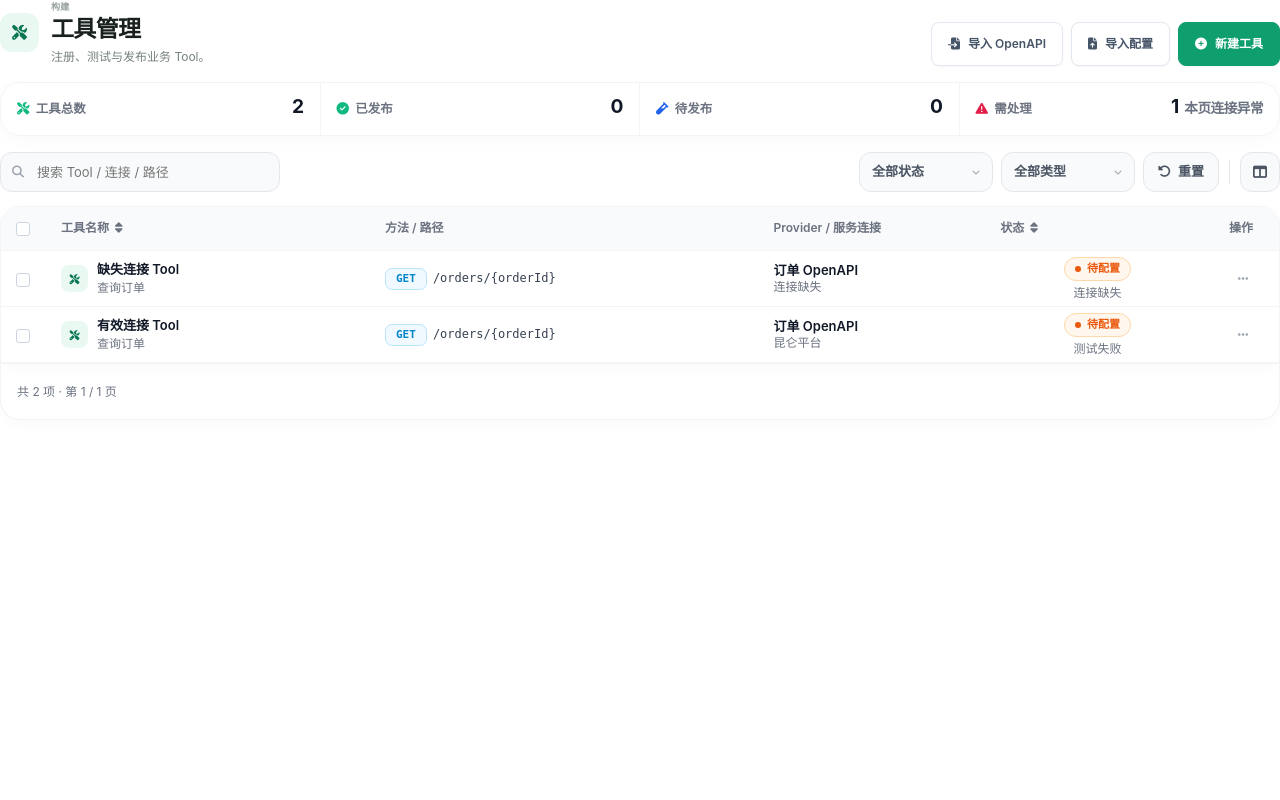
Test: tools view detail behavior › keeps destructive Tool actions behind the existing confirmation dialog
Click the button named "更多工具操作" in the row of "缺失连接 Tool".
click(1243, 279)  # box [1225,261,1261,297]
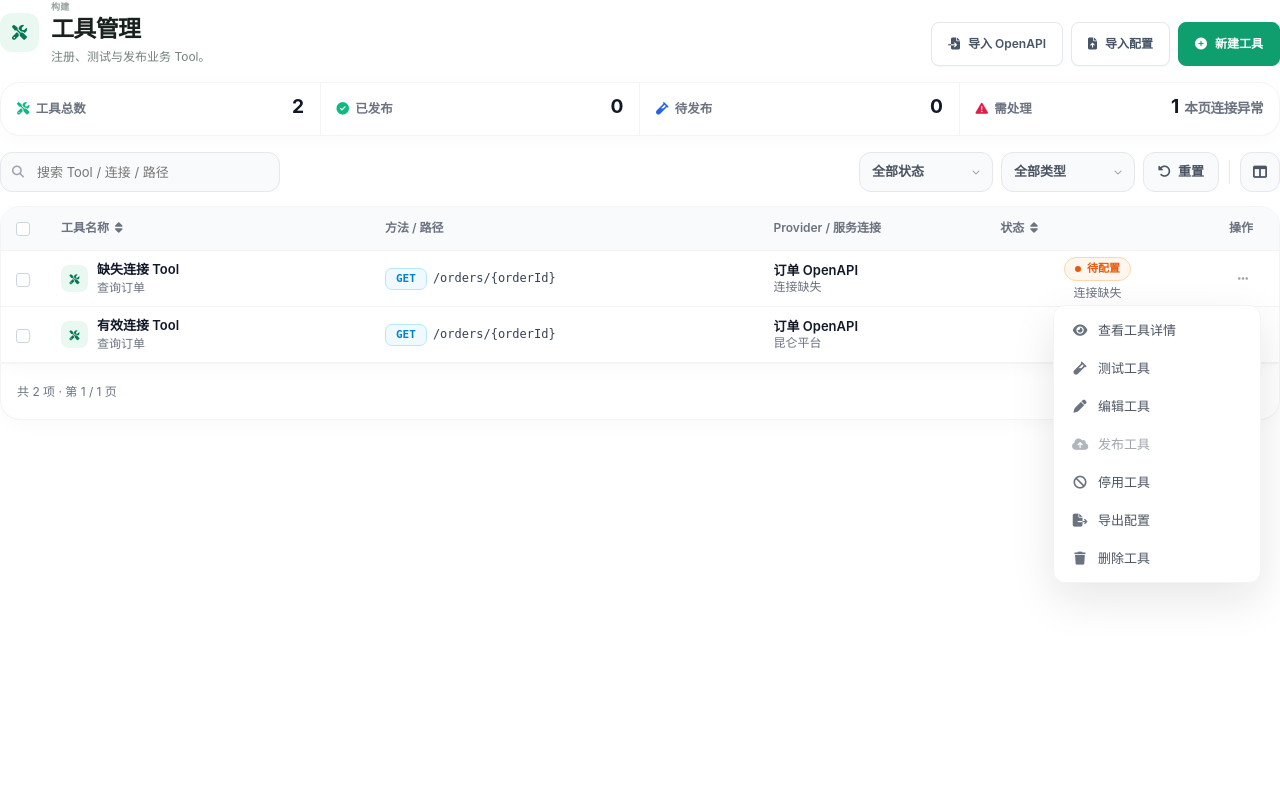
Click the menu item "删除工具".
click(1157, 558)  # box [1060,540,1254,576]
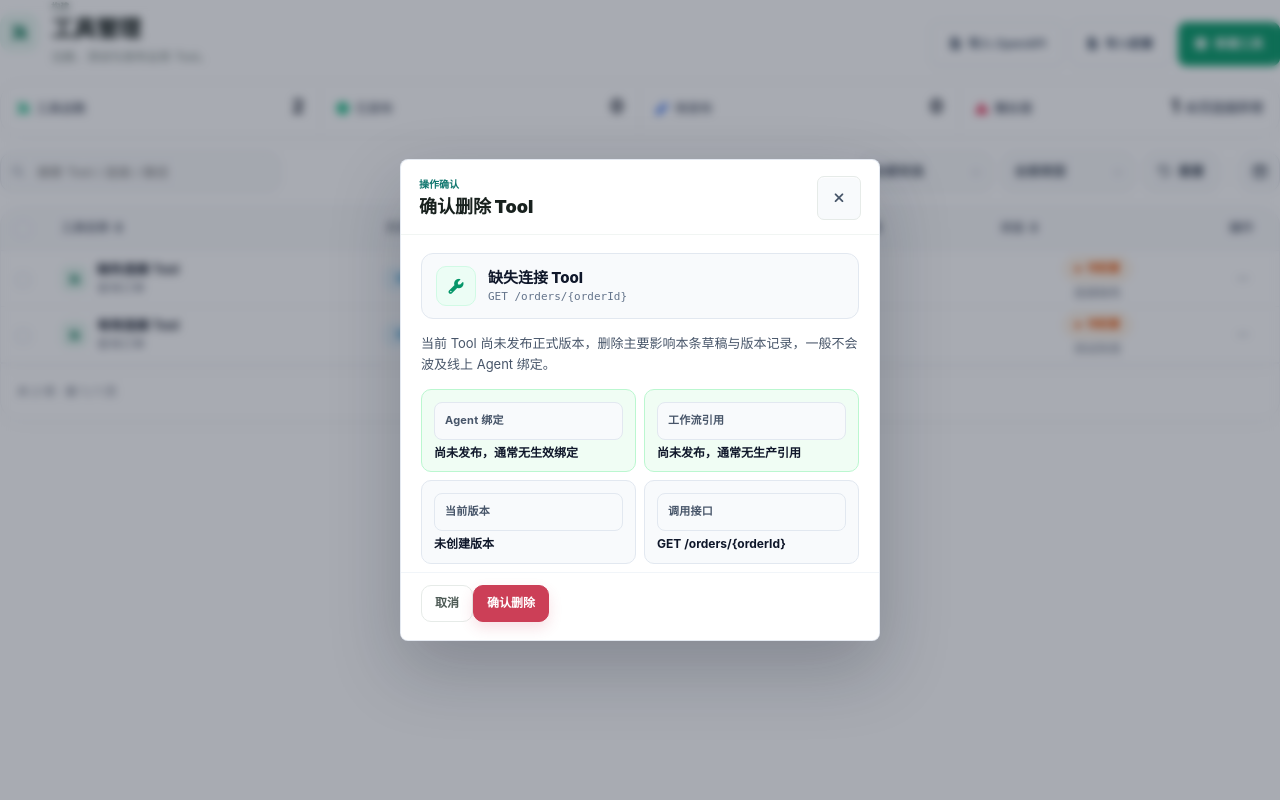
Result: the dialog with class "tool-risk-confirmation-modal" shows "确认删除 Tool" at [419,196,533,217]
Result: the dialog with class "tool-risk-confirmation-modal" shows "Agent 绑定" at [445,413,504,427]
